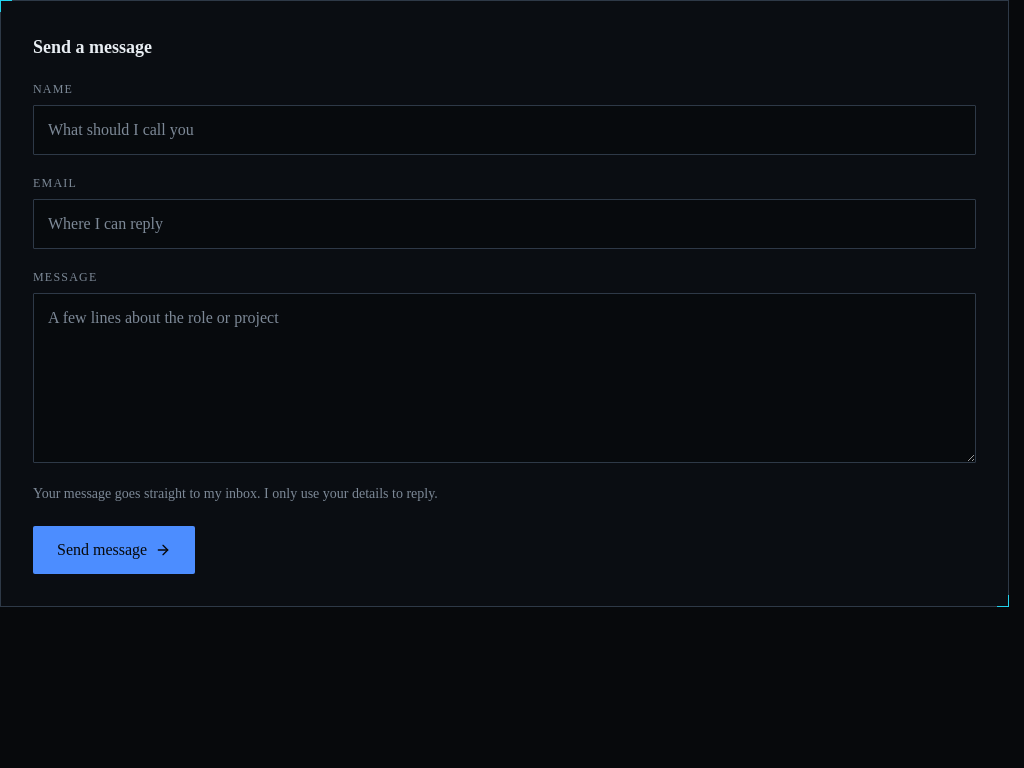
Scenario: ContactForm › treats a throwing action as a failed send
Type "Anna" into the field labelled "Name" at (504, 130), box [33,105,976,155]
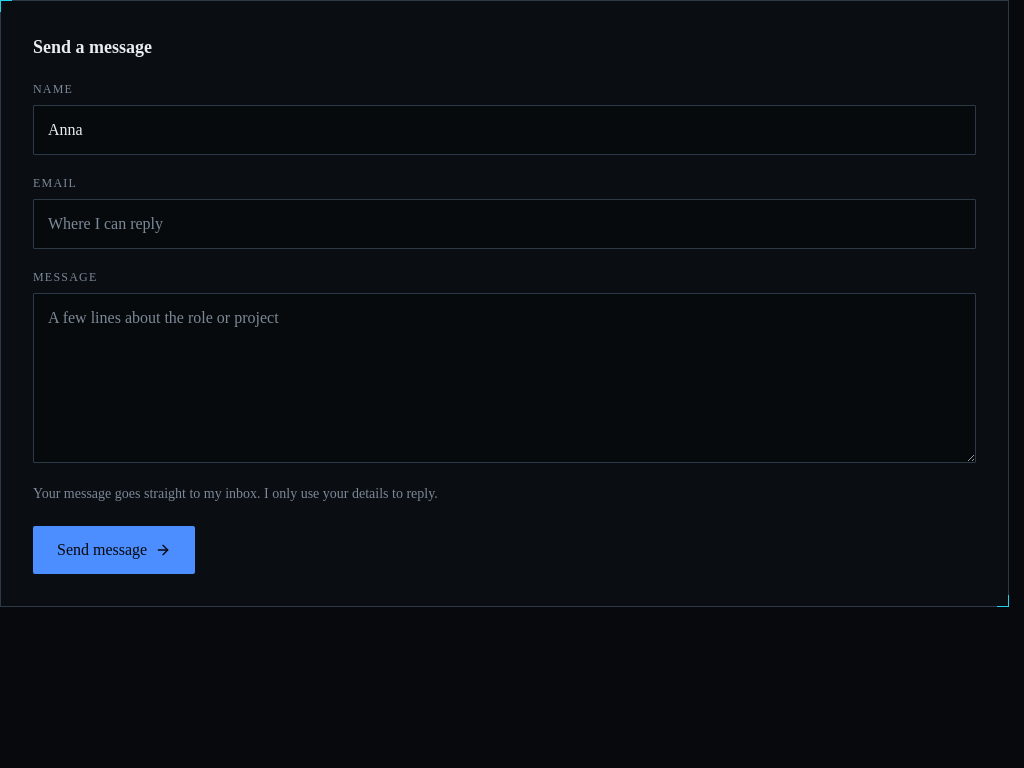
Type "anna@firma.pl" into the field labelled "Email" at (504, 224), box [33,199,976,249]
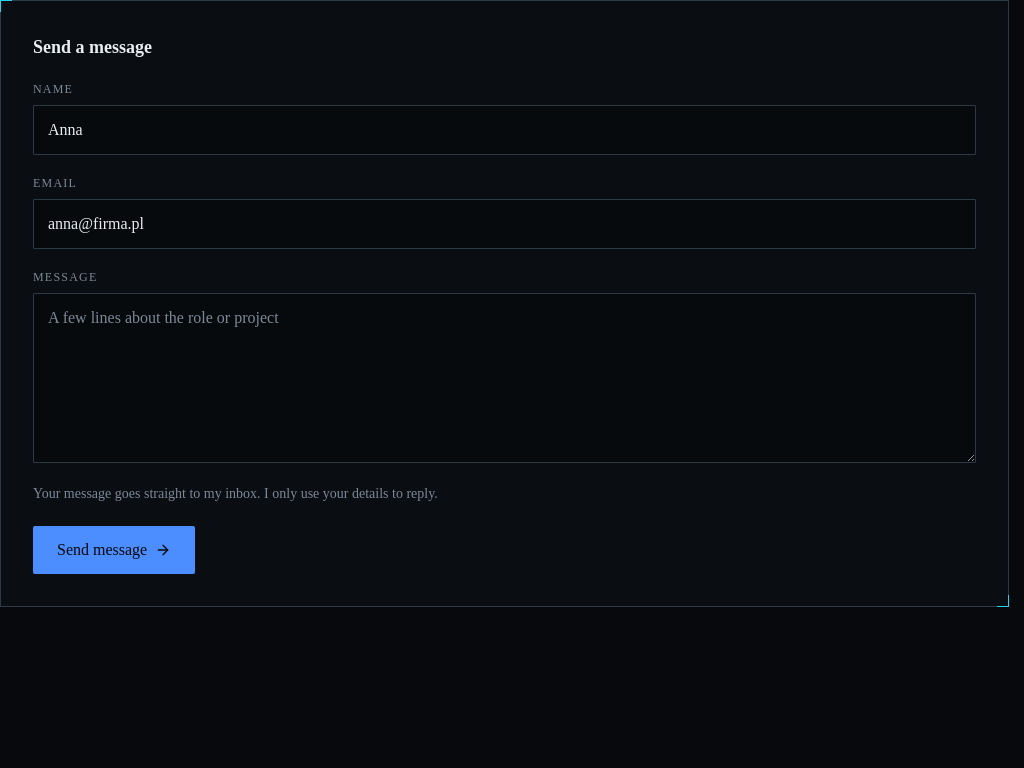
Type "Szukamy inżyniera z kontekstem produkcyjnym." into the text box labelled "Message" at (504, 378), box [33,293,976,463]
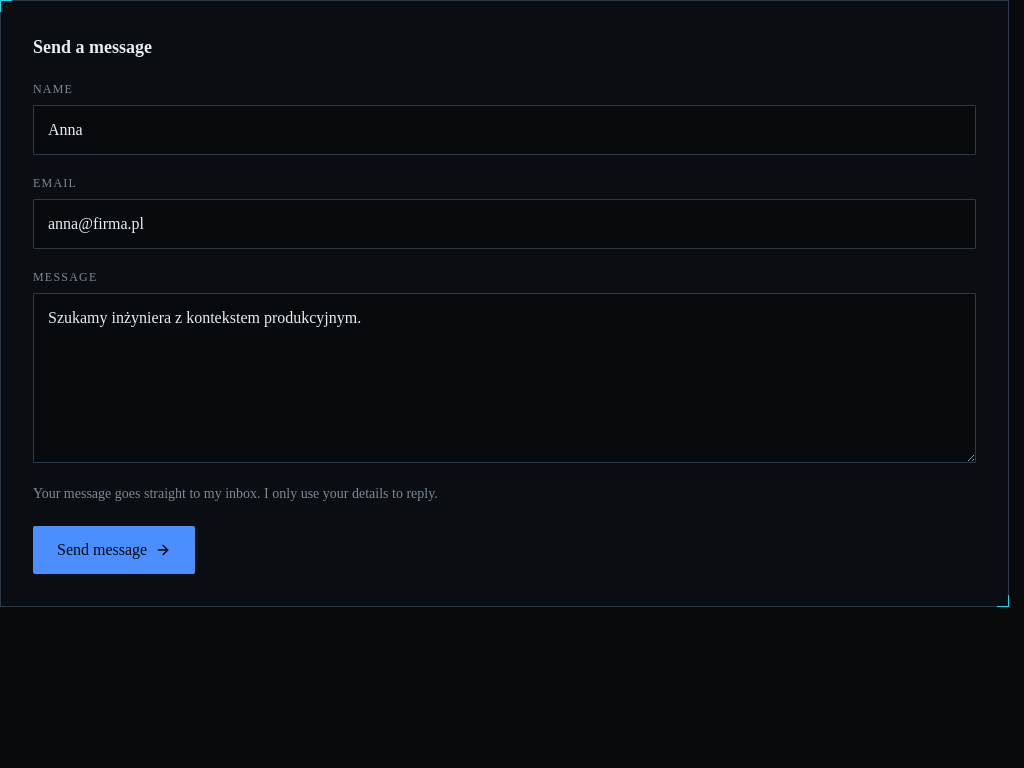
Submit the form "Send a message"
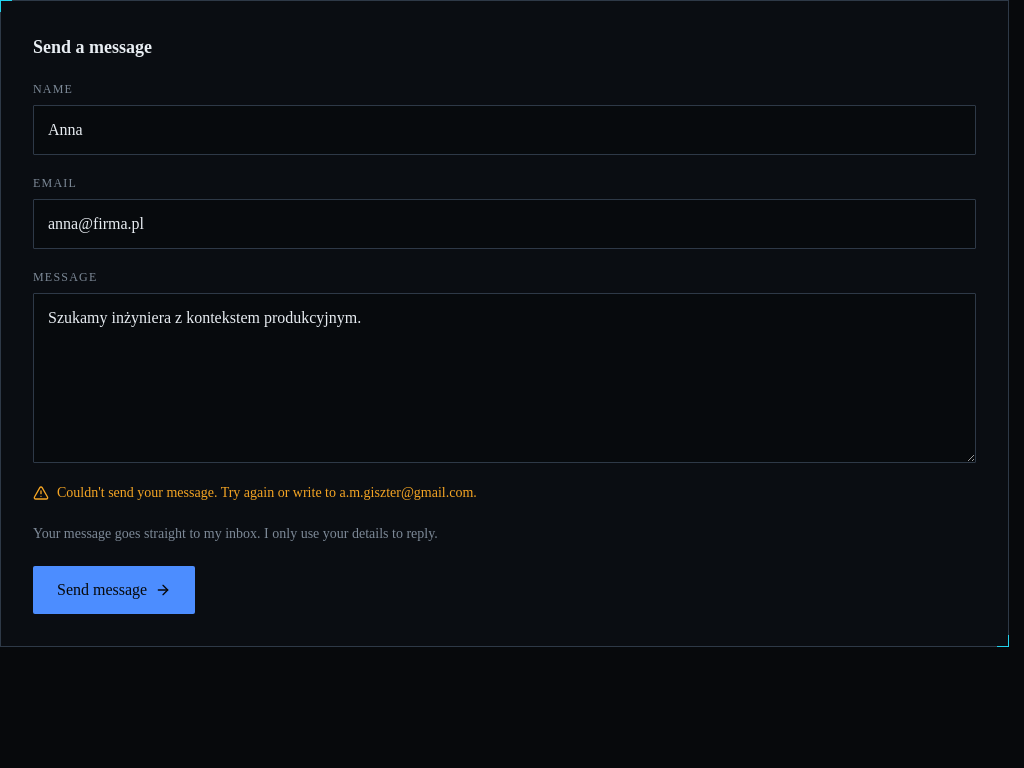
Result: the message "Couldn't send your message. Try again or write to a.m.giszter@gmail.com." is shown at [33,485,477,501]
